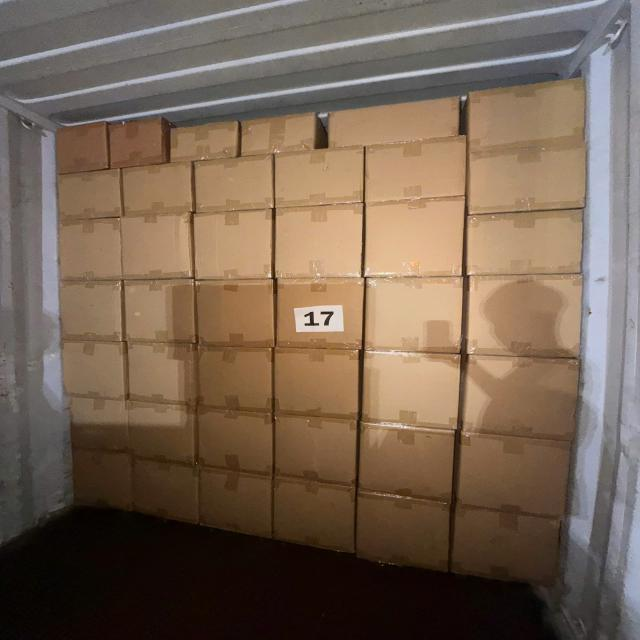Carton: (468, 270, 588, 355), (466, 357, 584, 443), (461, 427, 576, 515), (464, 77, 590, 154), (458, 506, 565, 592), (466, 141, 588, 215), (357, 488, 453, 575), (468, 214, 590, 282), (365, 198, 467, 278), (360, 348, 460, 428), (366, 279, 466, 356), (356, 424, 452, 504), (274, 474, 358, 556), (277, 203, 367, 279), (273, 277, 364, 351), (327, 97, 461, 147), (366, 141, 469, 206), (274, 346, 360, 418), (274, 415, 359, 484), (190, 208, 272, 278), (193, 278, 274, 348), (197, 467, 273, 541), (276, 150, 368, 210), (196, 344, 272, 413), (197, 408, 275, 474), (120, 217, 194, 282), (123, 281, 197, 346), (128, 341, 202, 405), (135, 460, 203, 529), (194, 159, 276, 216), (126, 401, 196, 465), (56, 216, 121, 279), (73, 452, 136, 517), (56, 279, 122, 341), (58, 340, 126, 400), (123, 165, 195, 218), (66, 395, 130, 454), (243, 115, 321, 157), (55, 173, 122, 221), (173, 122, 242, 164), (55, 120, 108, 173), (108, 119, 166, 167)
